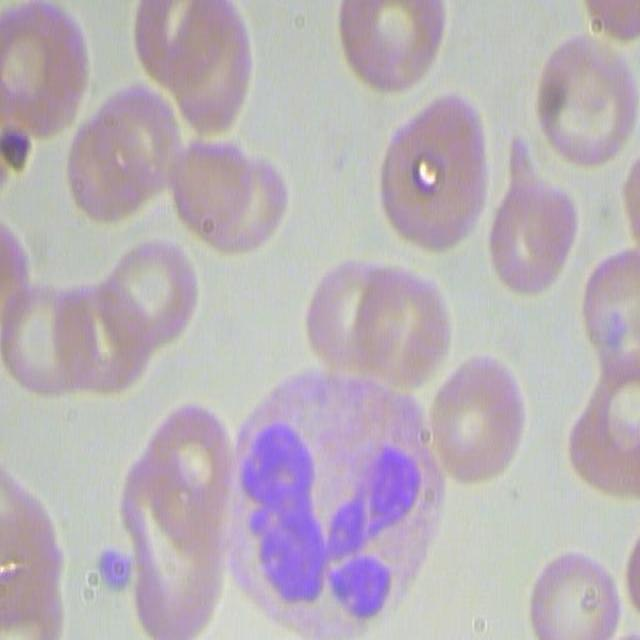RBC: (230, 360, 437, 616), (119, 398, 230, 640), (307, 257, 452, 405), (376, 89, 492, 259), (132, 2, 258, 139), (68, 82, 180, 226), (534, 29, 640, 172), (169, 136, 287, 264), (426, 351, 526, 489), (0, 458, 65, 640), (0, 0, 84, 139), (98, 232, 196, 348), (486, 174, 576, 296), (331, 0, 450, 90), (565, 364, 640, 501), (3, 286, 85, 406), (523, 545, 620, 638), (582, 246, 640, 377)
platelets: (92, 540, 134, 604)
